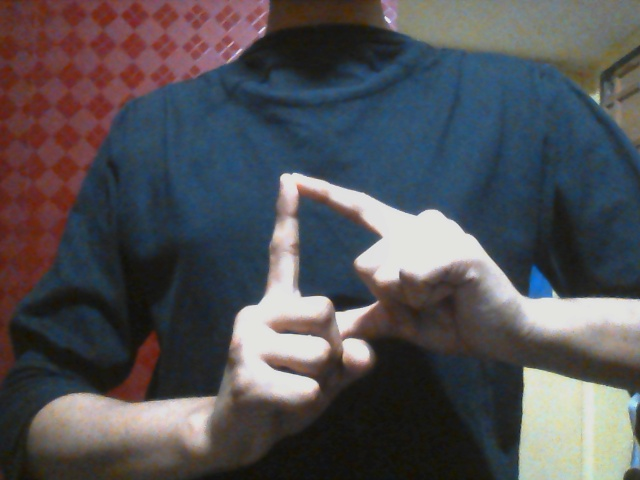D: (223, 173, 514, 464)
